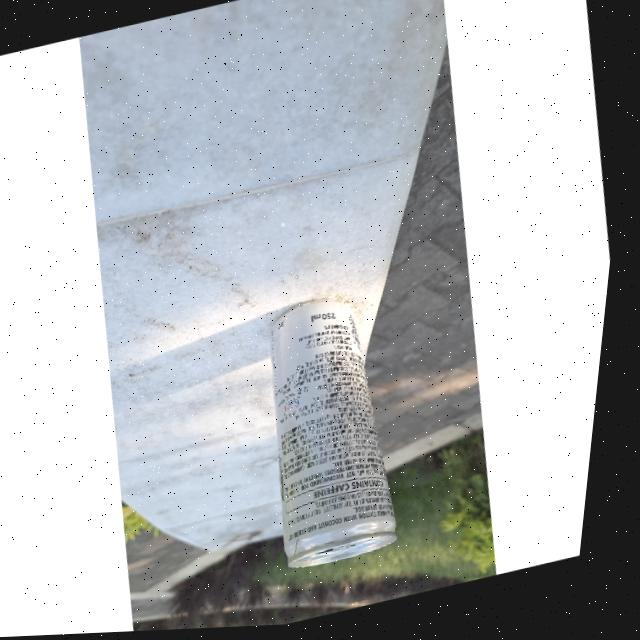Redbull Summer Edition: (235, 283, 439, 587)
